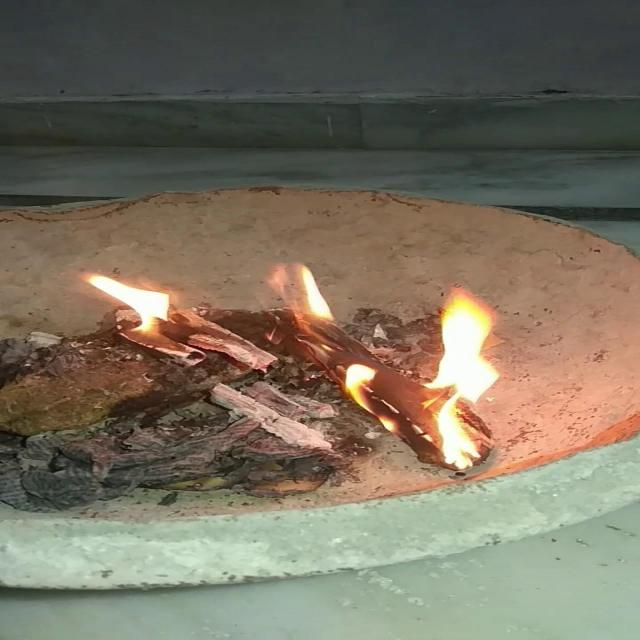fire: (247, 257, 507, 483), (72, 254, 185, 351)
